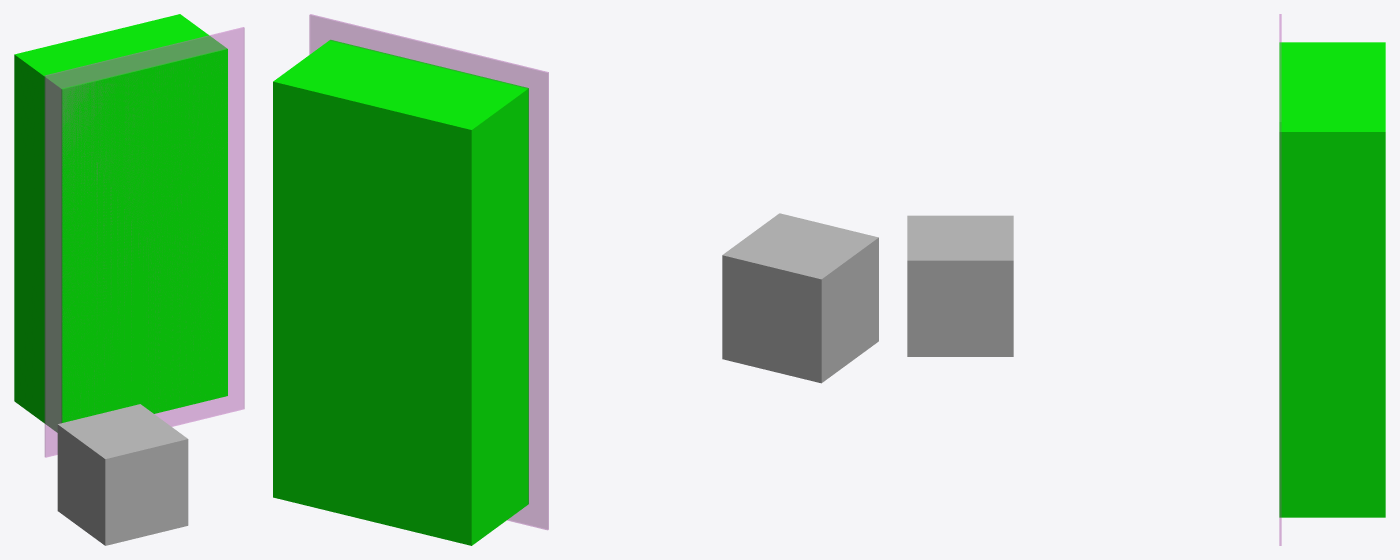
File: custom_plane_assembly.gltf
3 views of the same model, side by side, from view 1: azimuth 30°, elevation 25°; view 2: azimuth 150°, elevation 25°; view 3: azimuth 270°, elevation 25° (orthographic). The views are drawn at different scales.
Parts seen in each view (by area): view 1: object_on_custom_plane_part, custom_plane_visualization_part, reference_origin_box_part; view 2: object_on_custom_plane_part, reference_origin_box_part, custom_plane_visualization_part; view 3: object_on_custom_plane_part, reference_origin_box_part, custom_plane_visualization_part.
Part boxes in pixels (box(x1,y1,x2,y2)): object_on_custom_plane_part: box(14, 14, 227, 432); custom_plane_visualization_part: box(44, 27, 244, 457); reference_origin_box_part: box(57, 404, 188, 545); object_on_custom_plane_part: box(273, 39, 528, 545); reference_origin_box_part: box(722, 213, 878, 383); custom_plane_visualization_part: box(309, 14, 548, 530); object_on_custom_plane_part: box(1279, 42, 1385, 517); reference_origin_box_part: box(907, 215, 1013, 356); custom_plane_visualization_part: box(1279, 14, 1281, 545).
Size of the model in its own units: 18.5 by 22 by 22.5.
